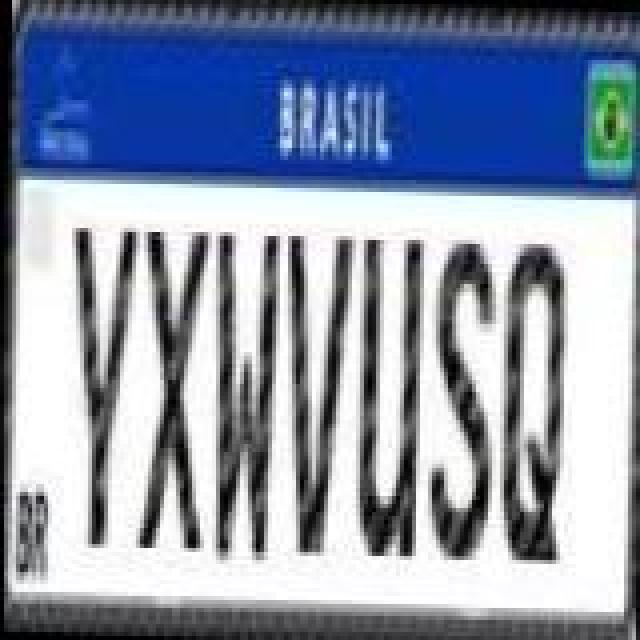Q: (492, 238, 564, 562)
S: (420, 226, 500, 566)
U: (352, 226, 424, 562)
V: (276, 228, 356, 556)
W: (202, 228, 278, 568)
X: (132, 222, 212, 550)
Y: (60, 220, 140, 548)
